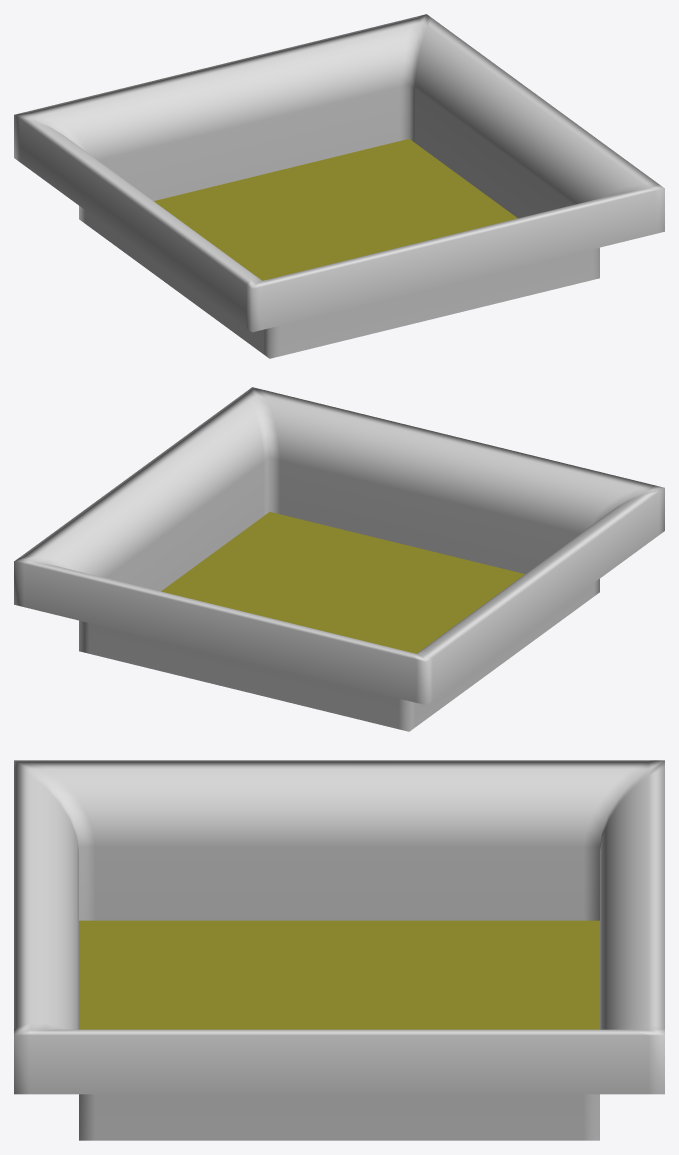
Rendered from SM_FloorPool2m.fbx.
3 renders of one model, top to bottom at view 1: azimuth 30°, elevation 25°; view 2: azimuth 150°, elevation 25°; view 3: azimuth 270°, elevation 25°, orthographic. The views are drawn at different scales.
Parts seen in each view (by area): view 1: SM_FloorPool2m; view 2: SM_FloorPool2m; view 3: SM_FloorPool2m.
Boxes of the visible parts, x1=… form: SM_FloorPool2m: x1=14, y1=14, x2=664, y2=358; SM_FloorPool2m: x1=14, y1=387, x2=664, y2=731; SM_FloorPool2m: x1=14, y1=760, x2=664, y2=1140.
Bounding box in the file's own units: 200 × 45 × 200.
